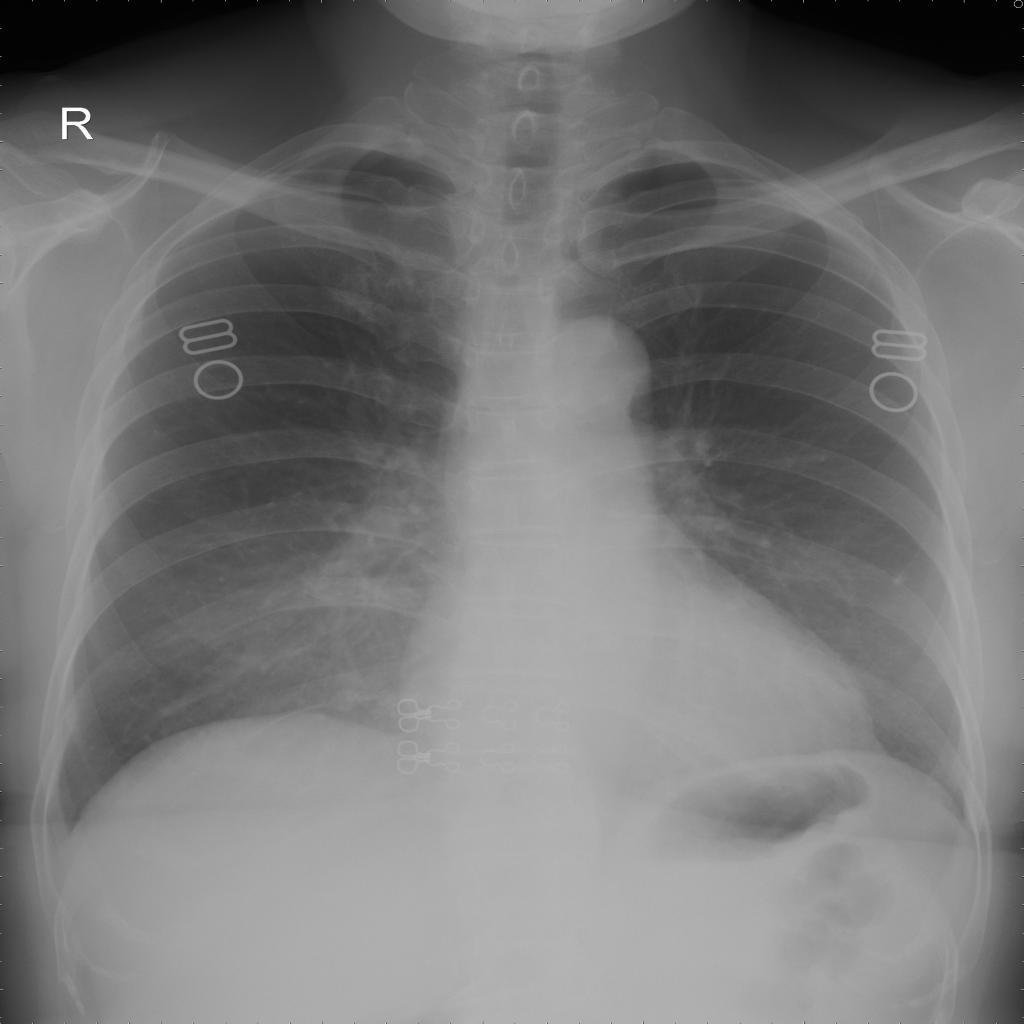Nodule: (187, 534, 417, 721)
